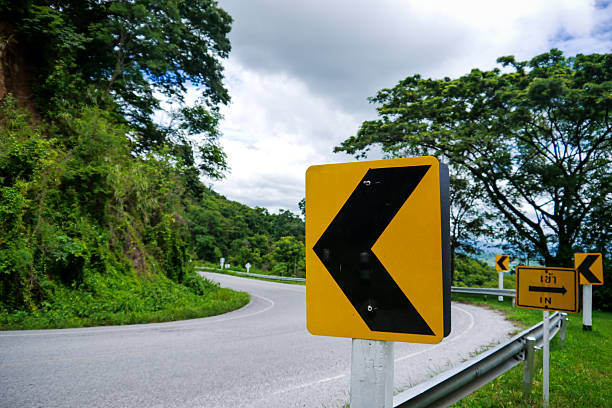left turn: (308, 164, 443, 340), (575, 253, 603, 285), (496, 255, 509, 271)
